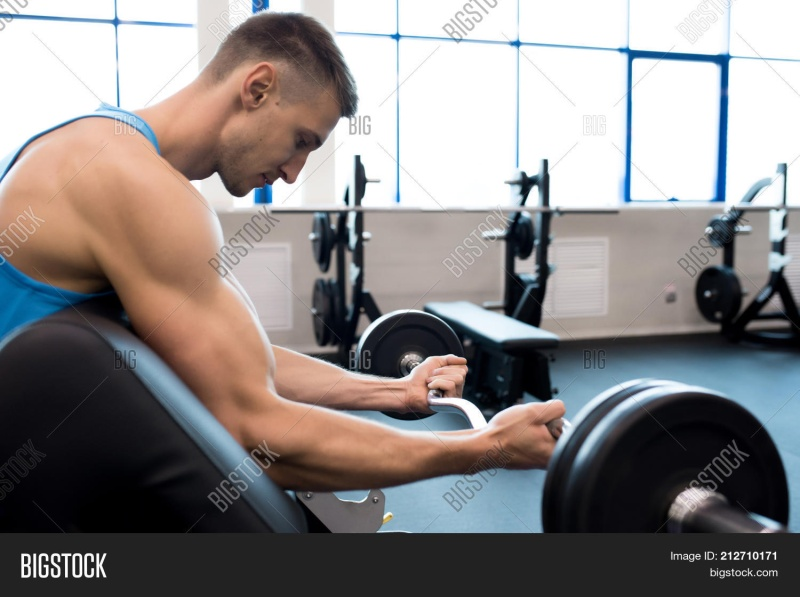barbell: (535, 376, 800, 541)
